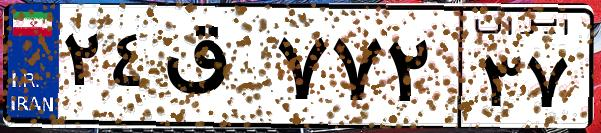2: (385, 28, 445, 110), (57, 26, 110, 100)
3: (475, 38, 525, 113)
4: (110, 28, 158, 98)
7: (270, 28, 330, 110), (330, 28, 385, 110), (525, 38, 570, 115)
ق: (158, 20, 270, 120)
